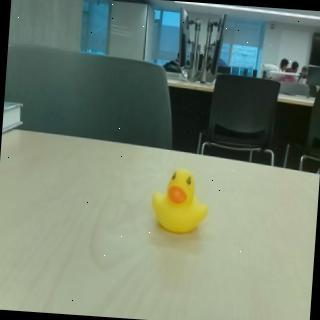duck_regular: (148, 167, 213, 237)
